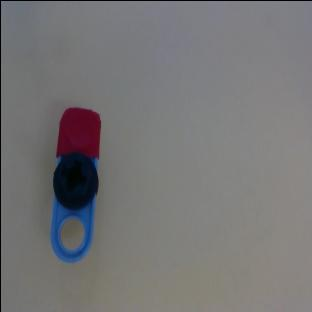part_1_good: (49, 106, 101, 263)
